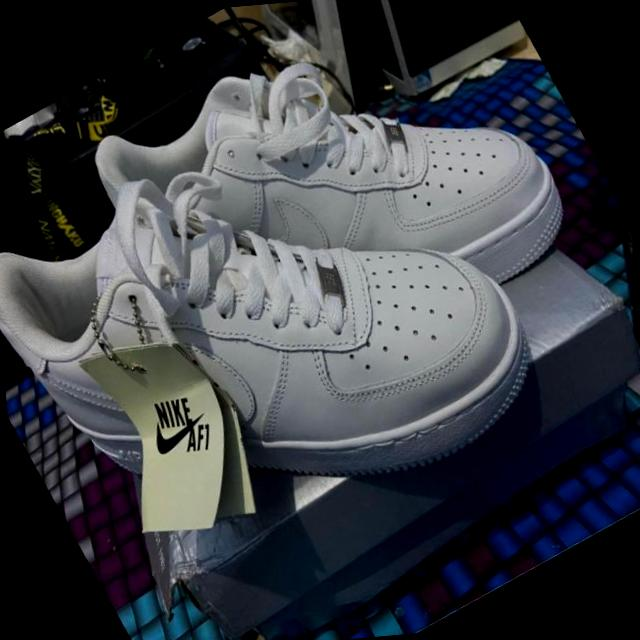nike_fake_airforce: (0, 30, 583, 627), (67, 0, 608, 443)
